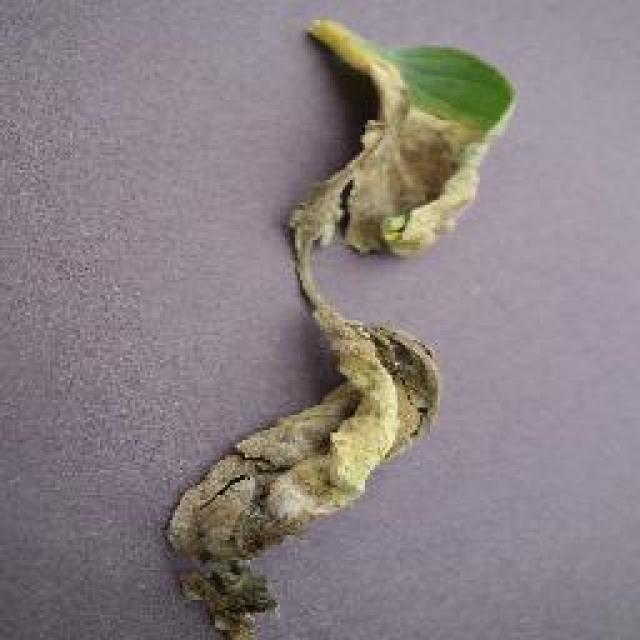Tomato___Late_blight: (162, 17, 519, 638)
